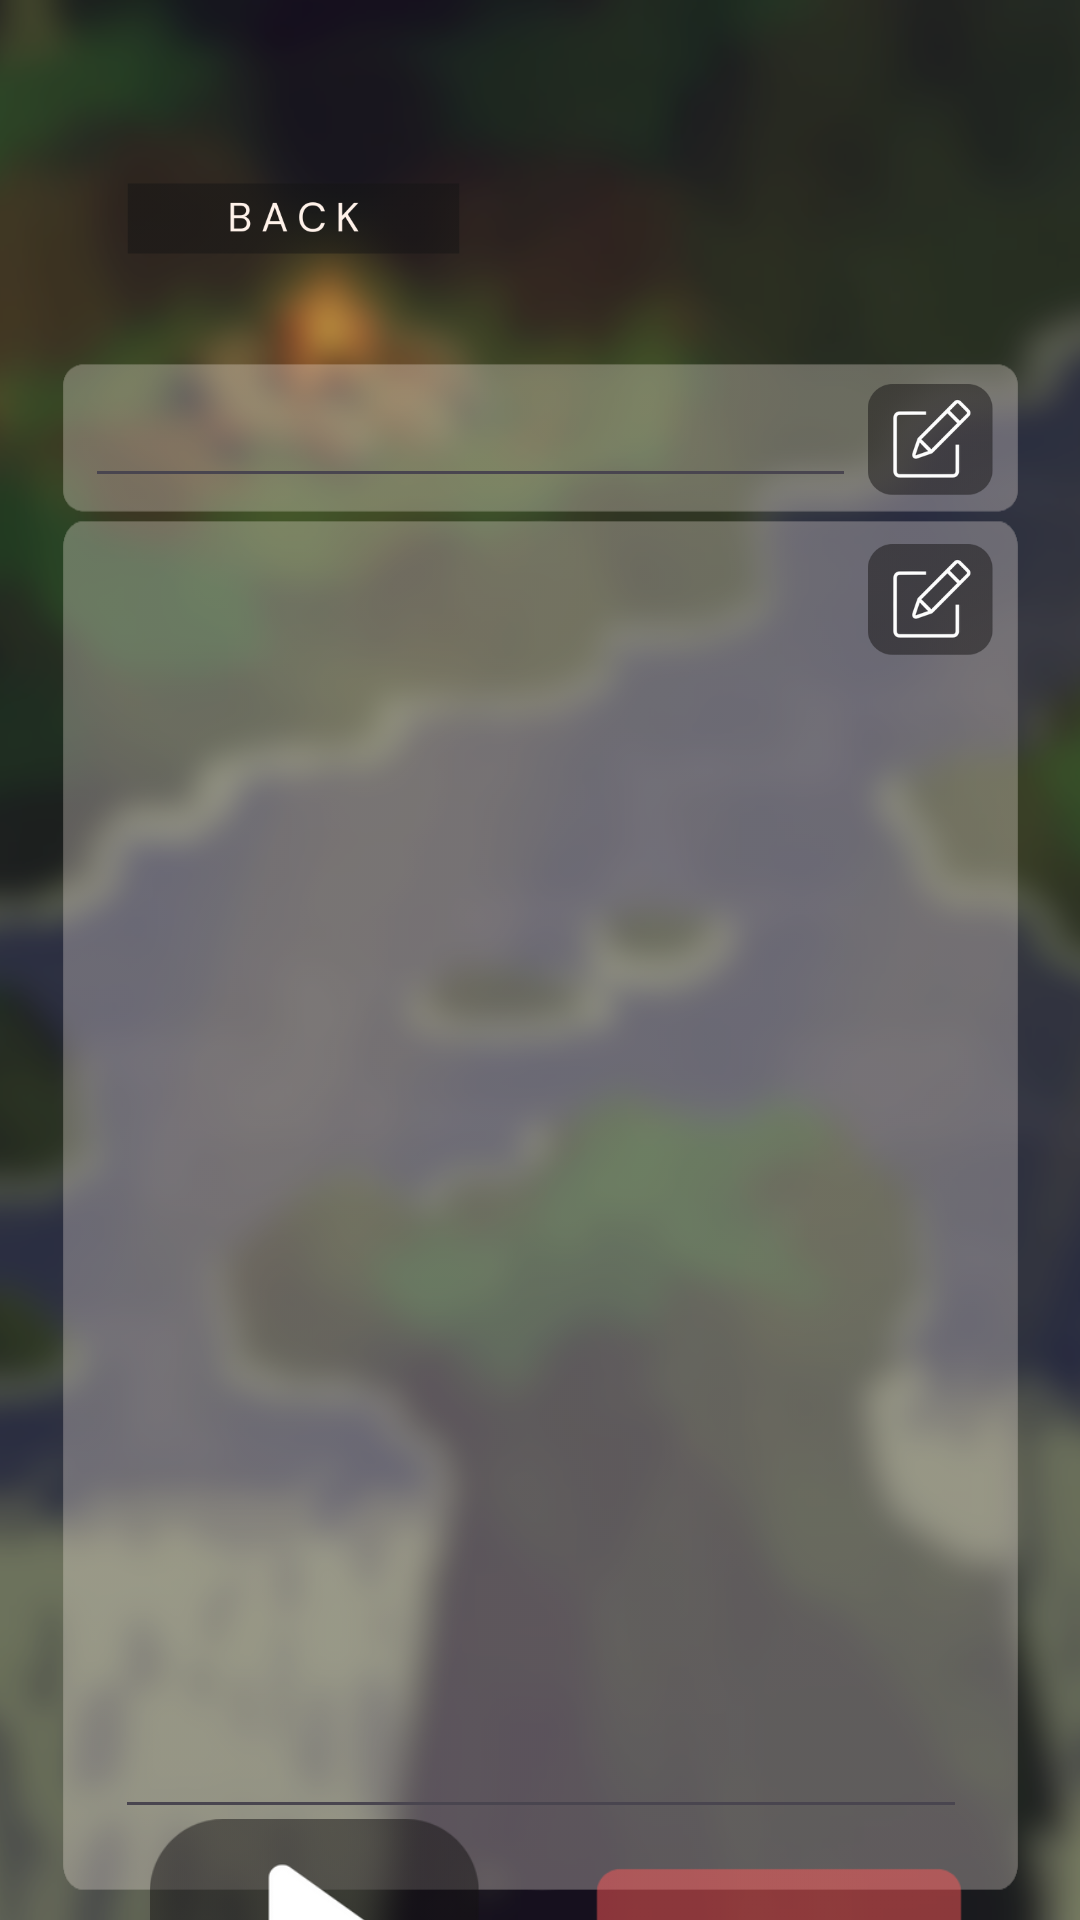

Icon click points for this 1080 × 1920 phone screenshot, format (x,y):
edit states: (930,439), (930,599)
